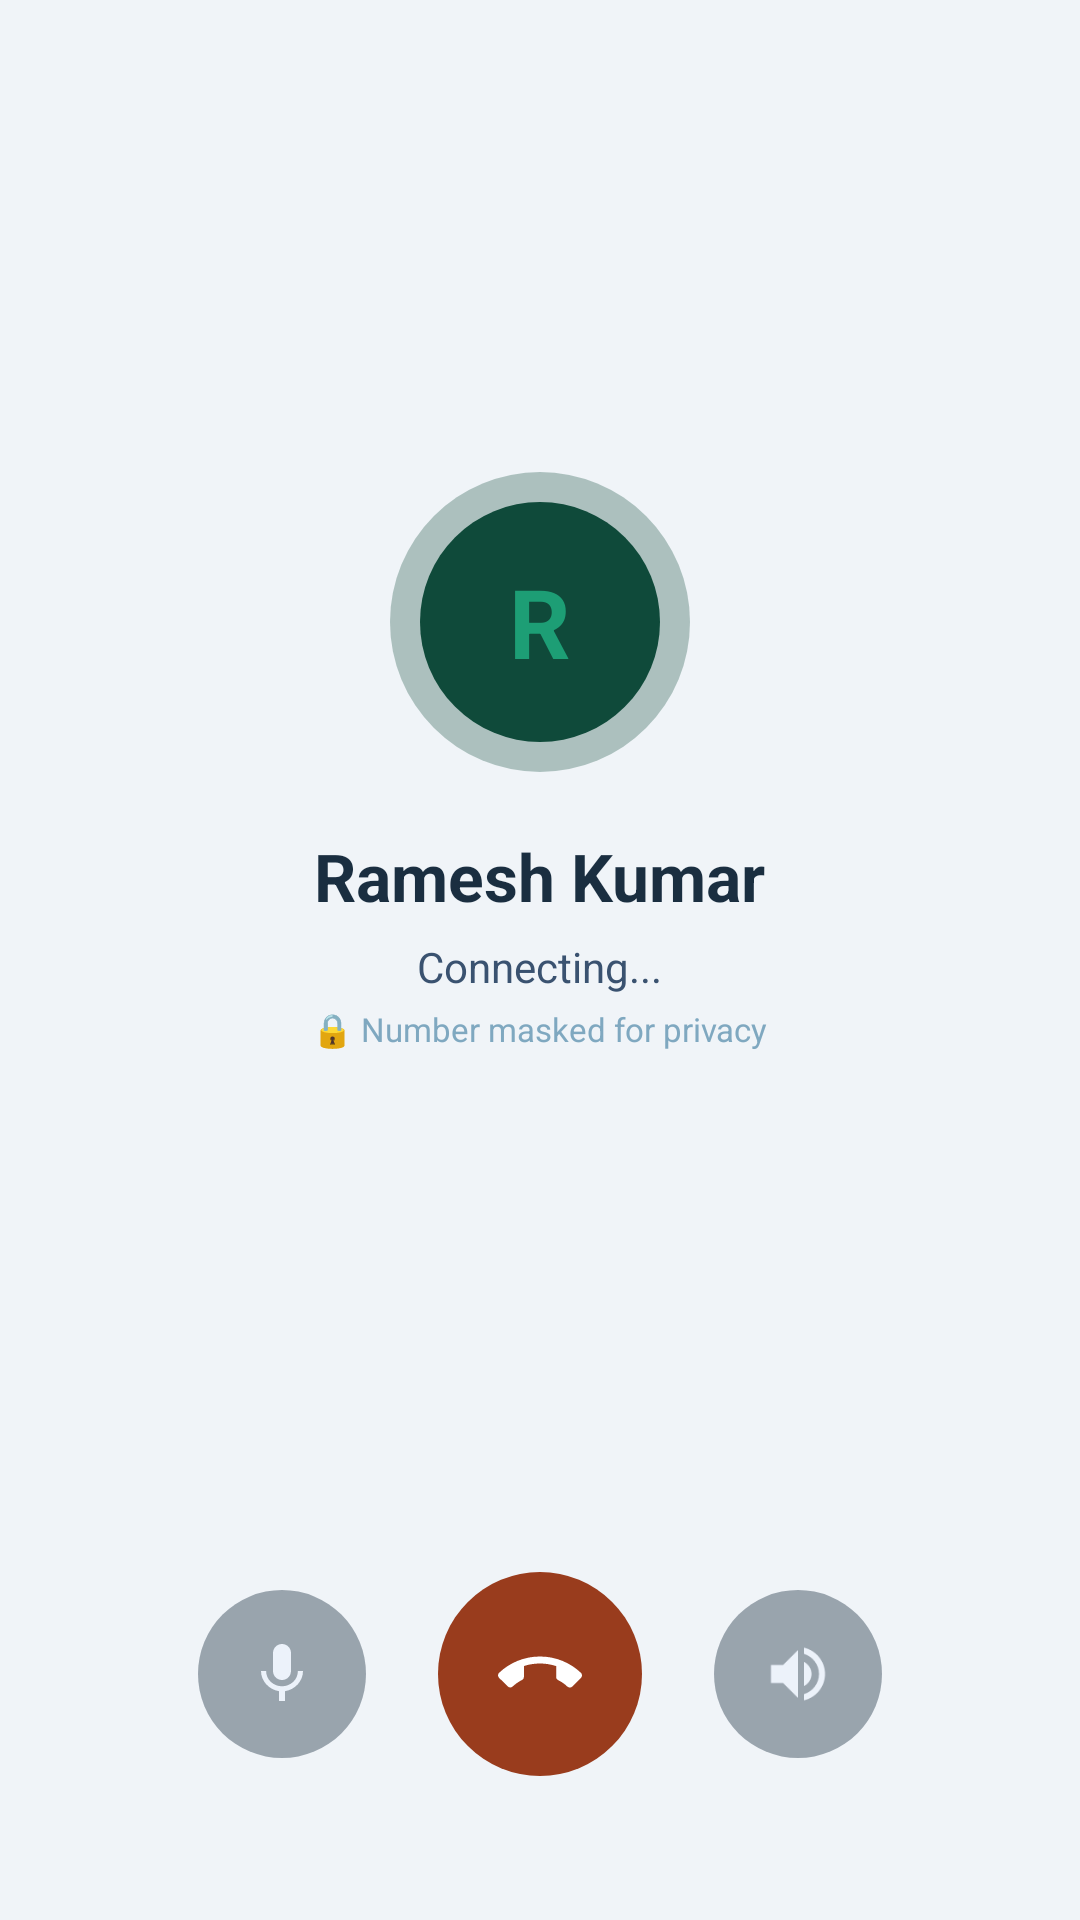

Point at icon controls on the screen. Image size 1080×1920, points as [x,y].
call end: [540,1672]
mic: [282,1672]
volume up: [798,1674]
